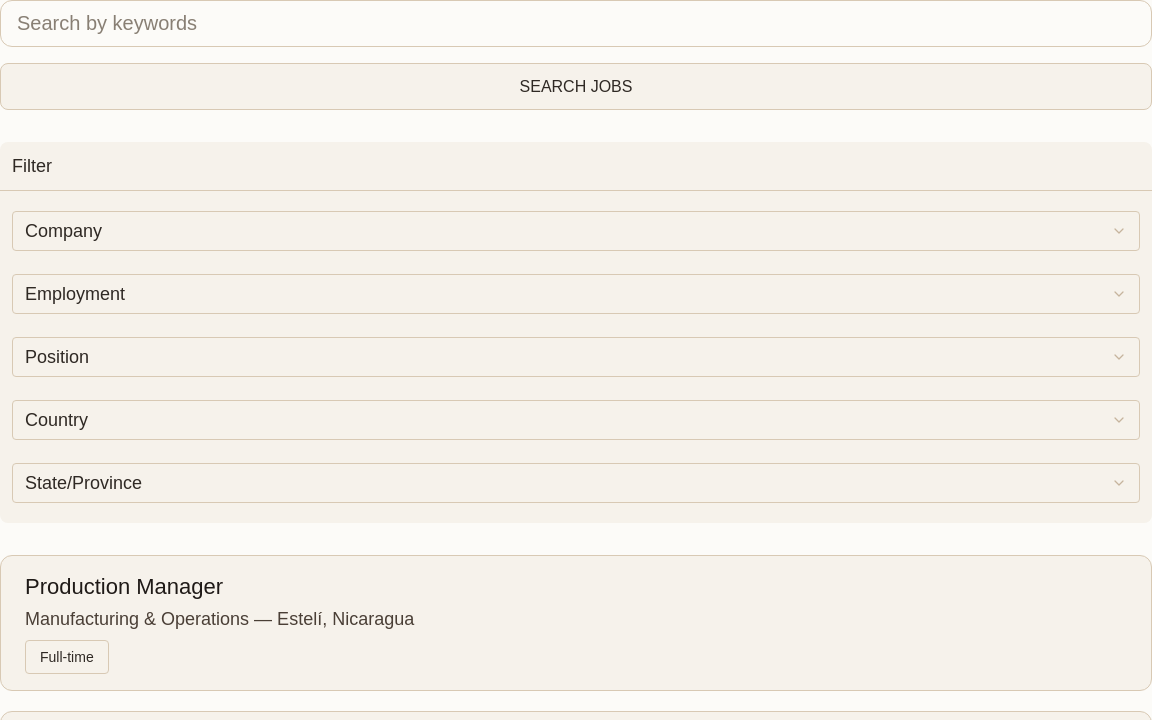
it: CareersPositionsSearch › announces no-results state and keeps deferred filters non-operable
The image size is (1152, 720).
In the search field labelled "Search by keywords": point(576, 24) [0,0,1151,47], type "nonexistent role"
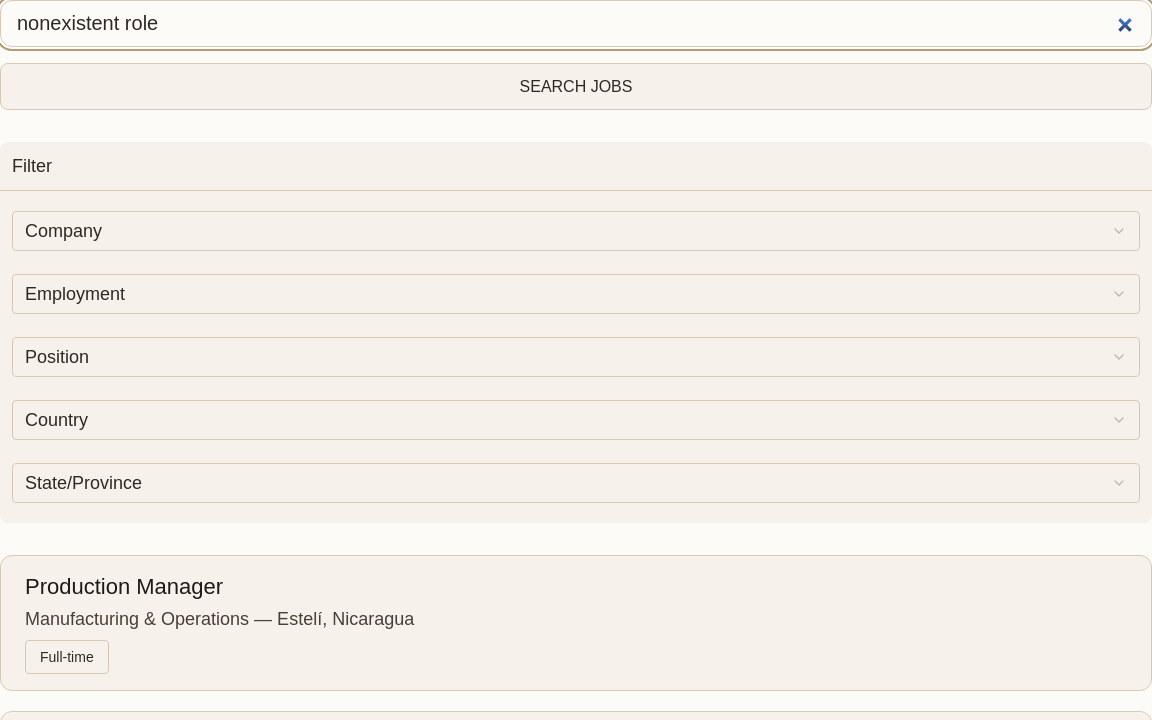
Click the button "Search Jobs": point(576, 86) [0,63,1151,110]
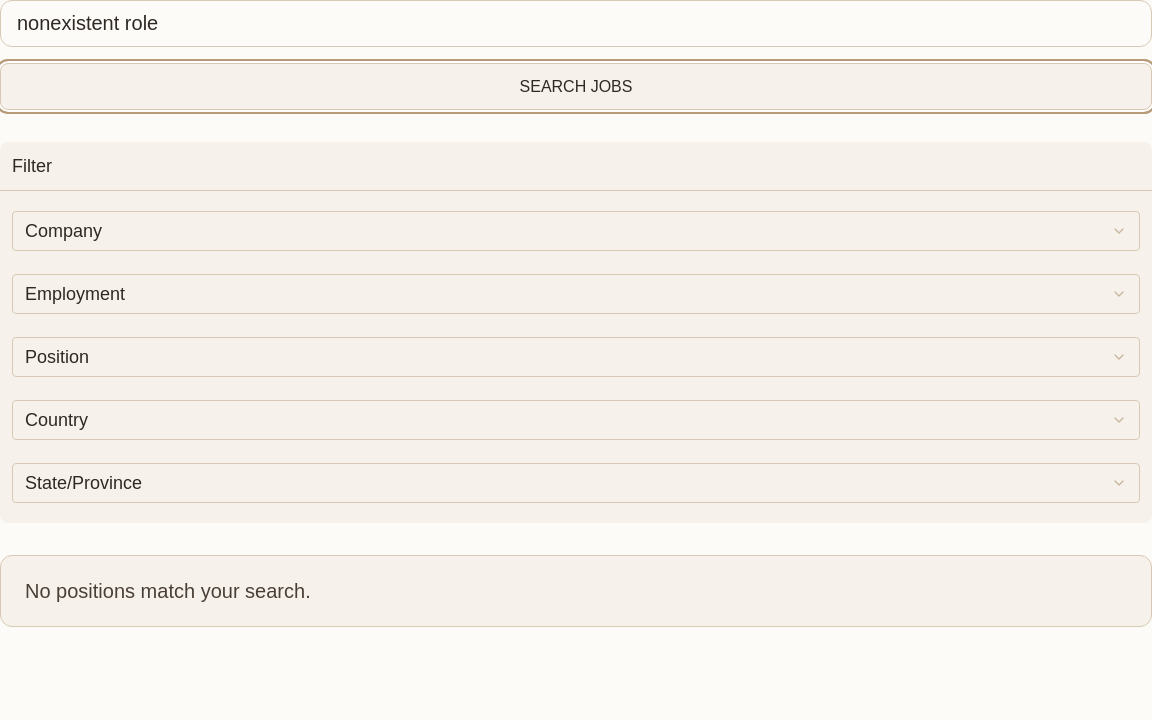
Expected: the number of buttons named "filter (unavailable" is 5, [12,211,1140,251]; [12,274,1140,314]; [12,337,1140,377]; [12,400,1140,440]; [12,463,1140,503]
Now the text "No positions match your search." is shown 2 times
